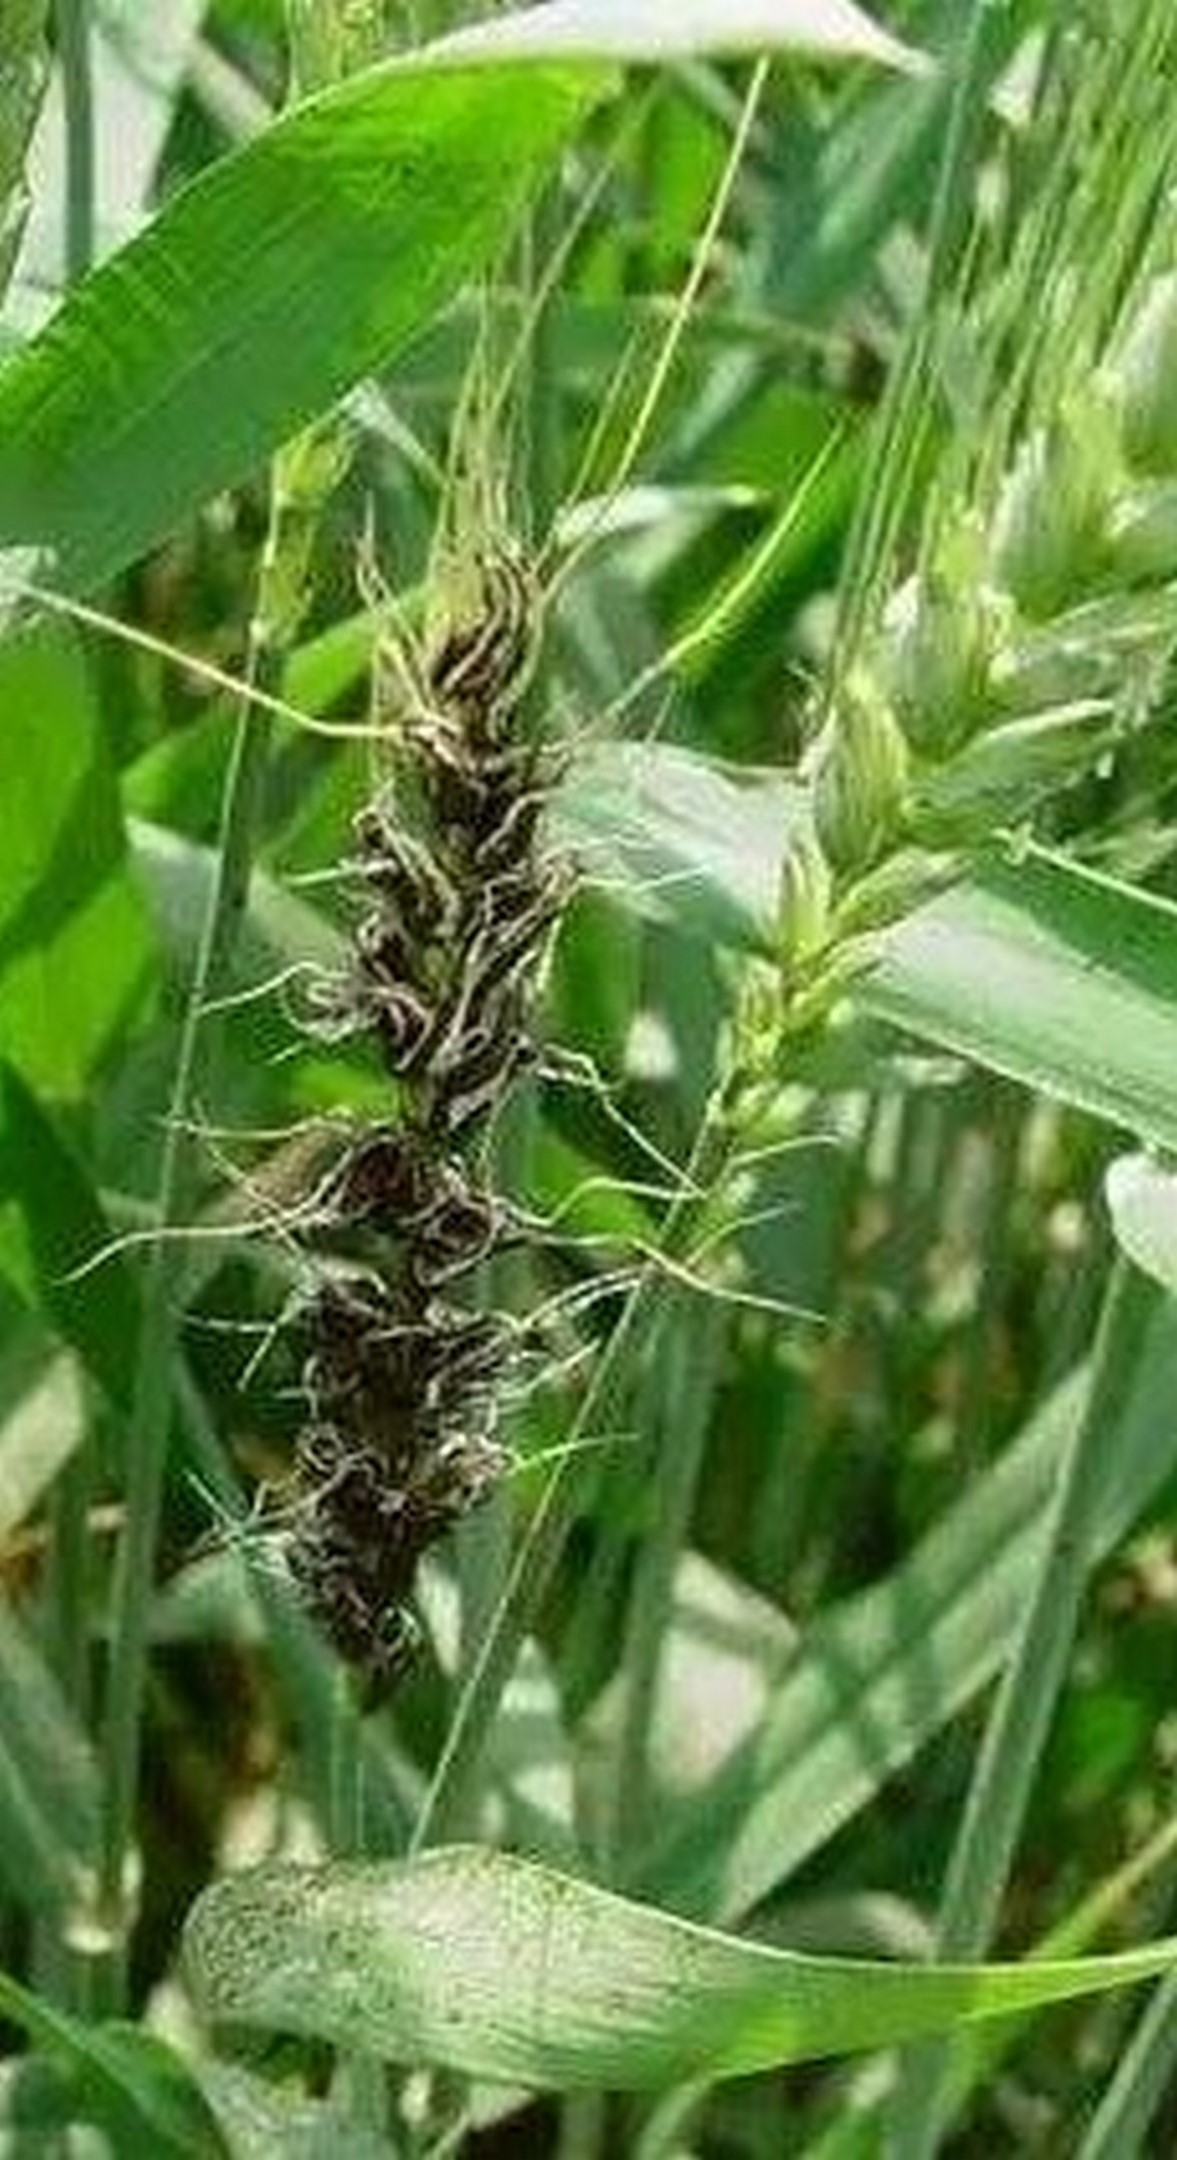Wheat Loose Smut: (249, 564, 593, 1675)
